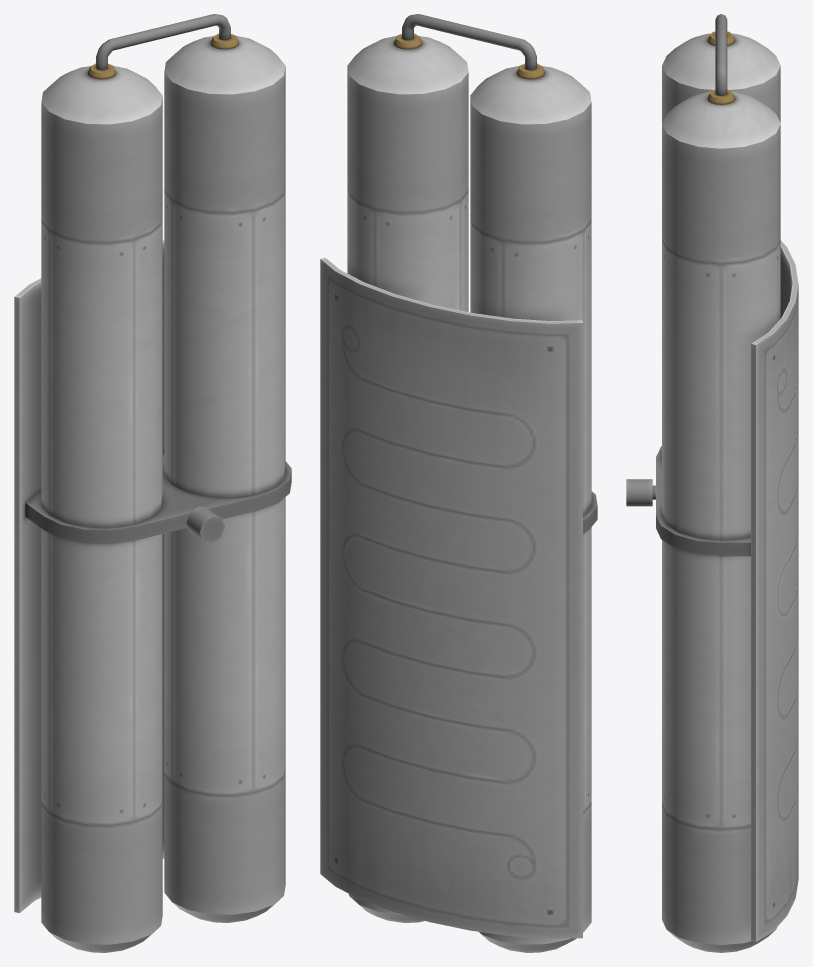
File: Alniyat_MonoDouble_1_2.obj
3 views of the same model, side by side, from view 1: azimuth 30°, elevation 25°; view 2: azimuth 150°, elevation 25°; view 3: azimuth 270°, elevation 25° (orthographic). The views are drawn at different scales.
Visible parts, largest first — view 1: Alniyat_MonoDouble_1_2; view 2: Alniyat_MonoDouble_1_2; view 3: Alniyat_MonoDouble_1_2.
Boxes of the visible parts, <box> form: Alniyat_MonoDouble_1_2: <box>14,14,291,952</box>; Alniyat_MonoDouble_1_2: <box>320,14,597,952</box>; Alniyat_MonoDouble_1_2: <box>626,14,798,952</box>.
Bounding box in the file's own units: 0.6198 × 2.04 × 0.3625.
